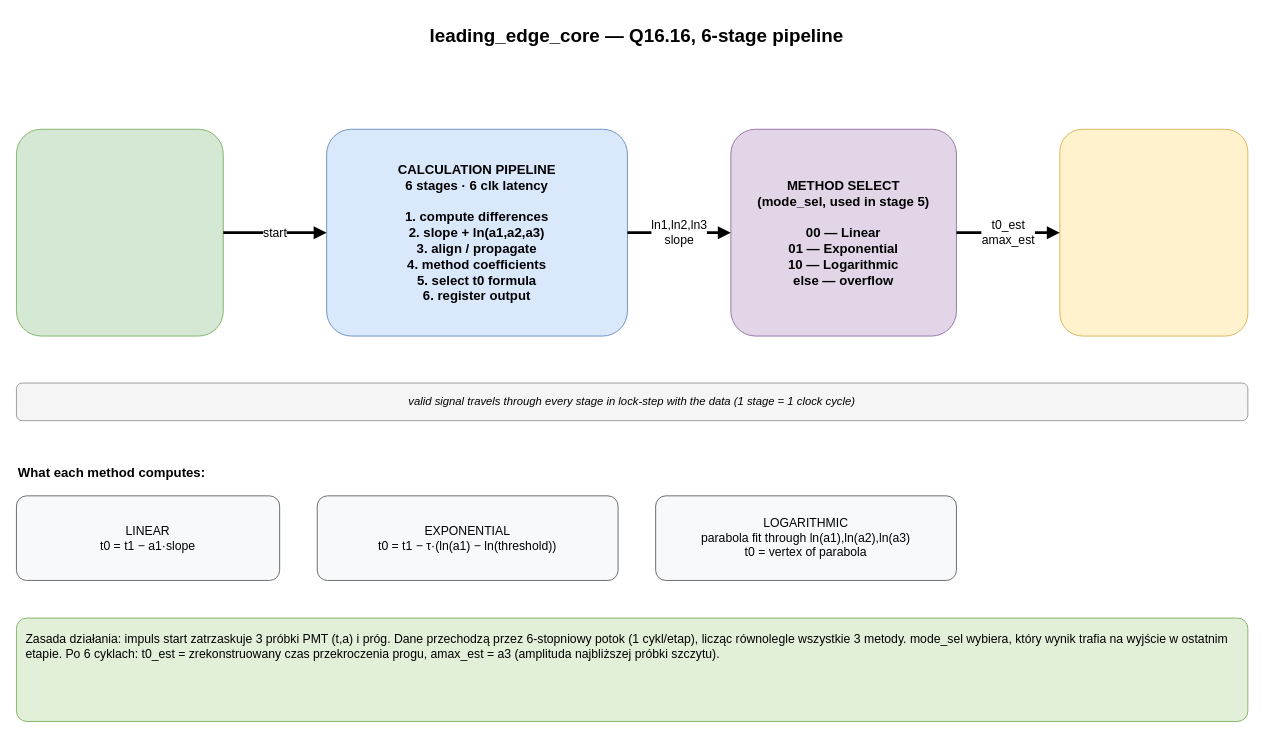
This 1274x738 diagram has some shape labels left out. The shapes that lost their labels are listed below. From the top down, each one's centre as x and y in pixels, then its label:
At (119,232): "INPUTS clk, rst_n, start mode_sel t1,a1,t2,a2,t3,a3 threshold".
At (1153,232): "OUTPUTS t0_est amax_est valid overflow".
